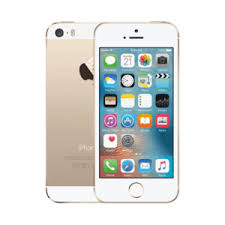iphone: (94, 18, 181, 206)
iphone6: (94, 18, 181, 206)
